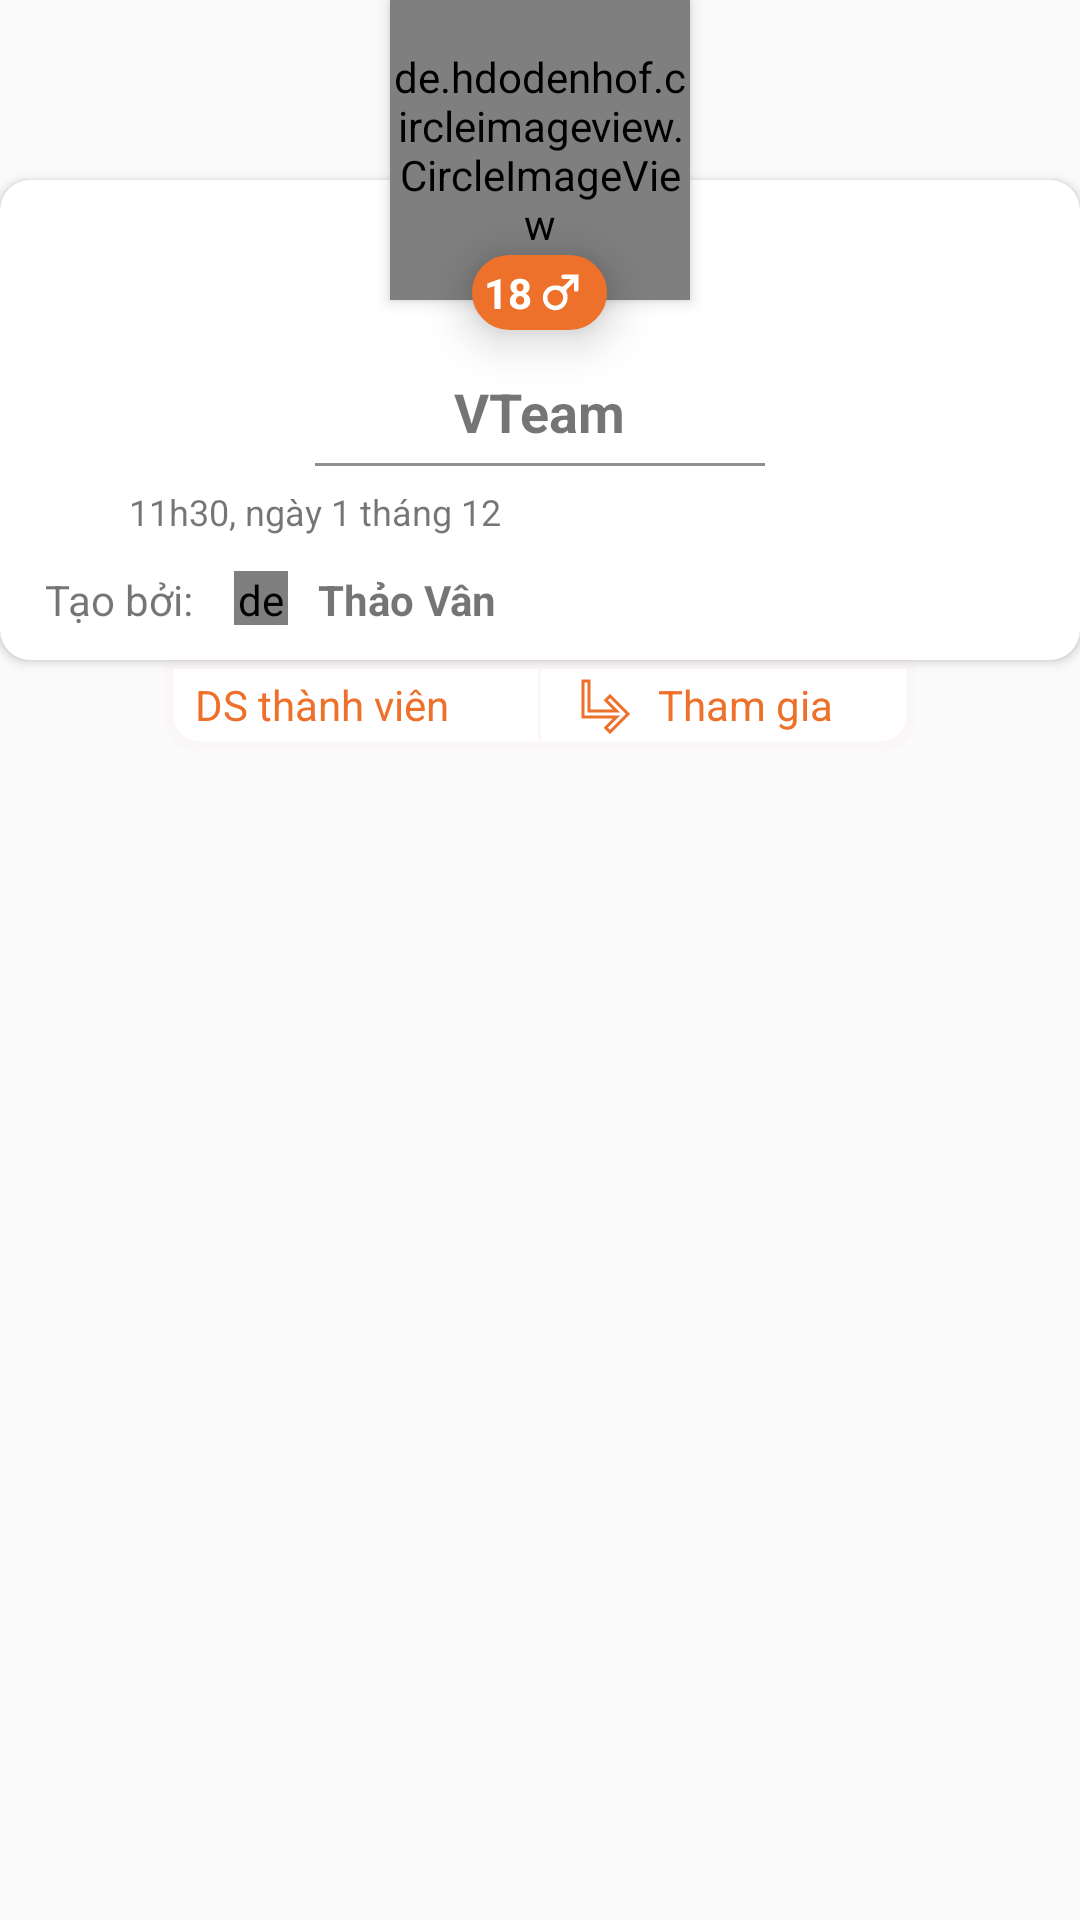

Named icons in this screenshot (1080px×1920px) and their bounding boxes, [x1,y1,x2,y2]:
enter: [581,679,630,734]
